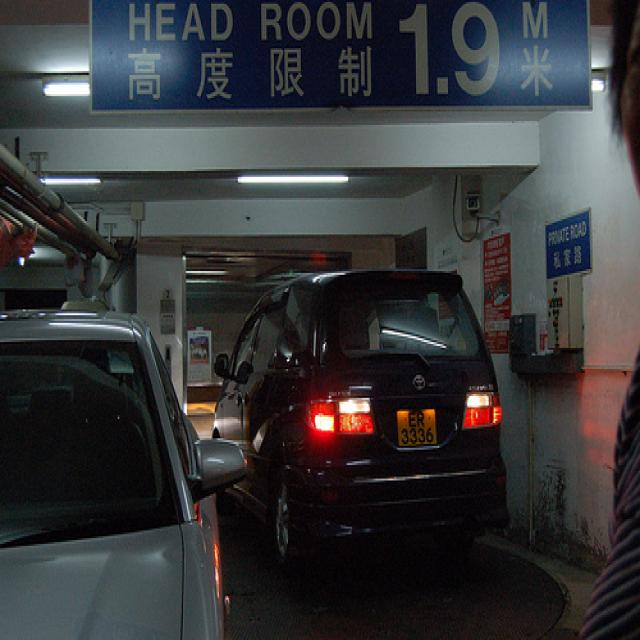Car: (212, 258, 513, 558), (2, 303, 249, 640)
